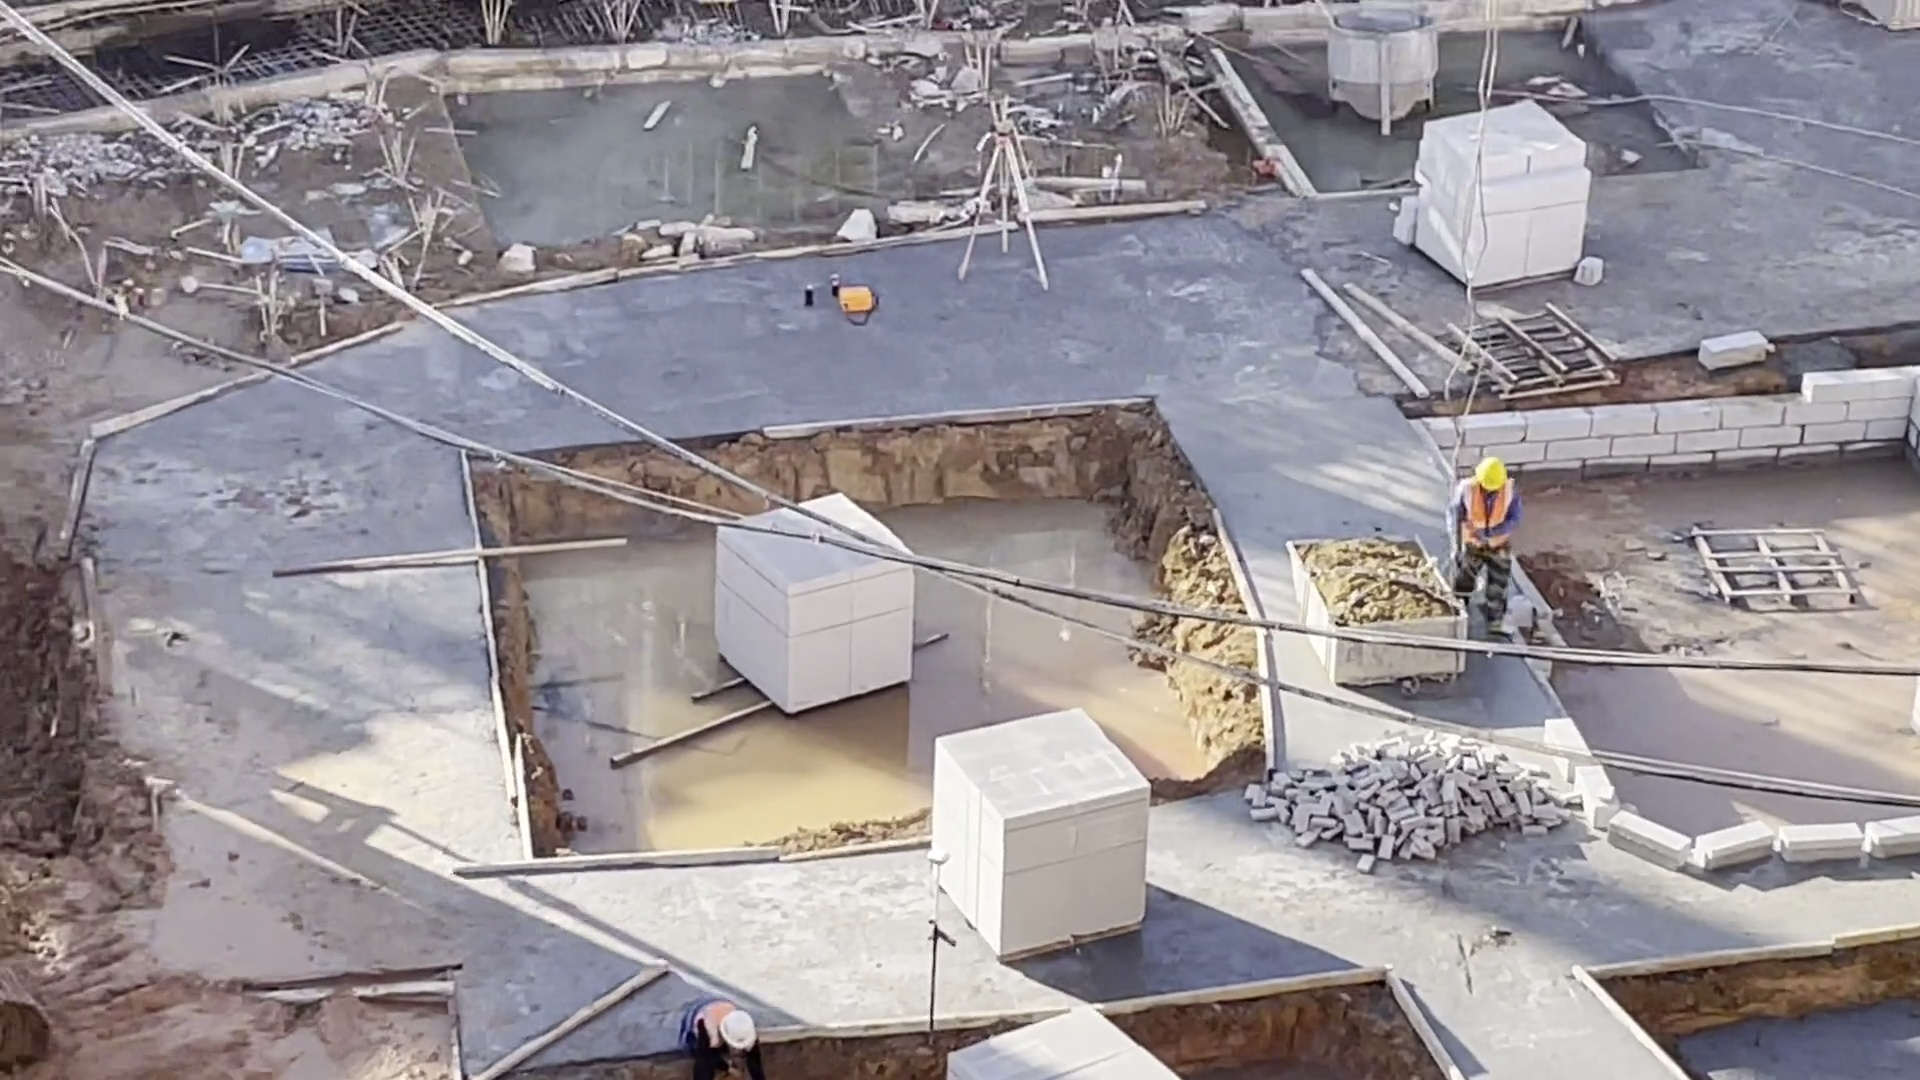brick: (930, 708, 1157, 975), (699, 549, 913, 715), (1412, 100, 1591, 295), (927, 1000, 1167, 1080)
helmet: (718, 1011, 762, 1048), (1471, 457, 1508, 494)
hopper: (1328, 5, 1443, 142), (1281, 528, 1437, 627)
person: (1444, 454, 1518, 642), (674, 990, 755, 1080)
vest: (1462, 480, 1508, 557)
